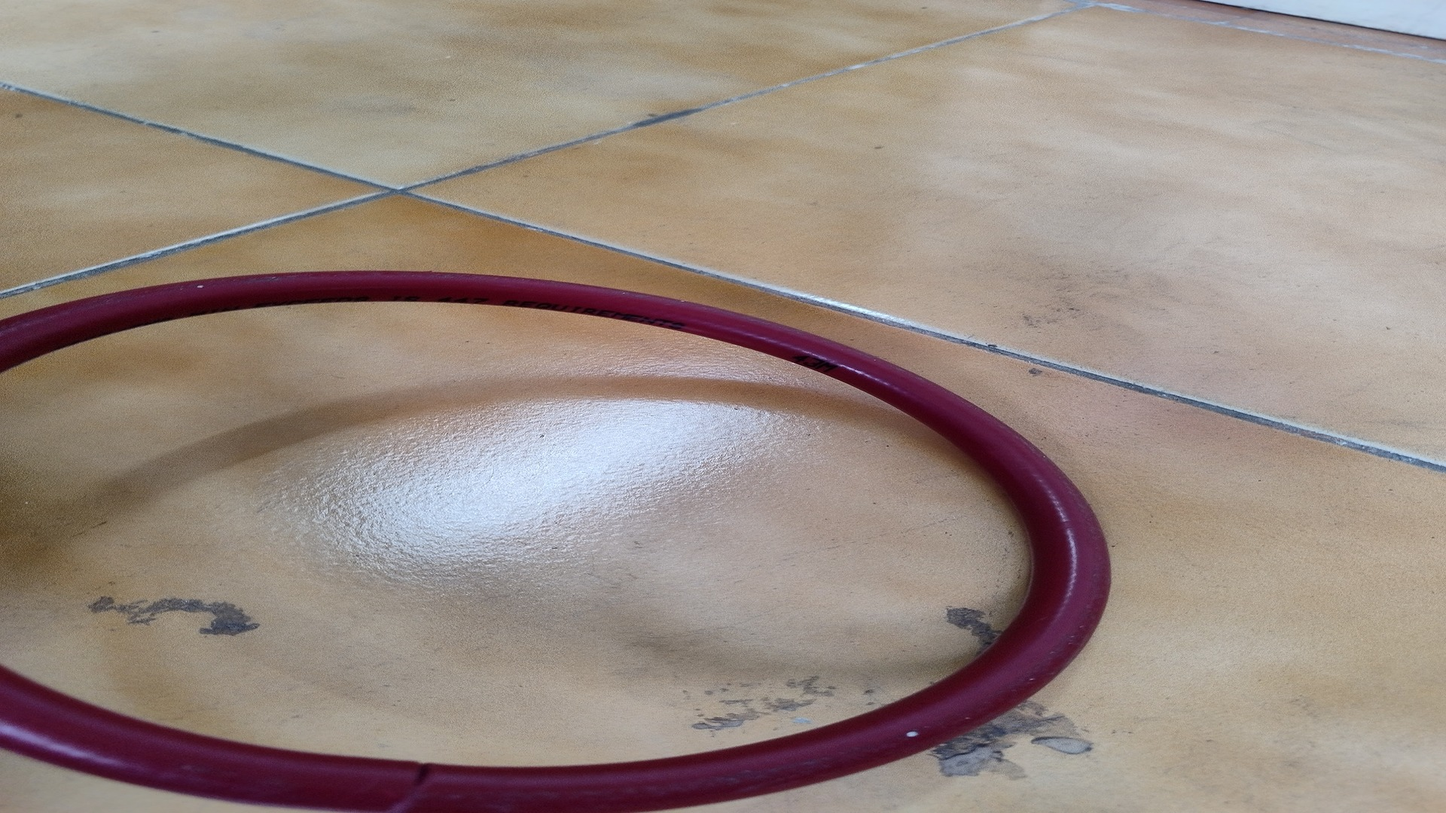Red ring: (6, 270, 1114, 813)
